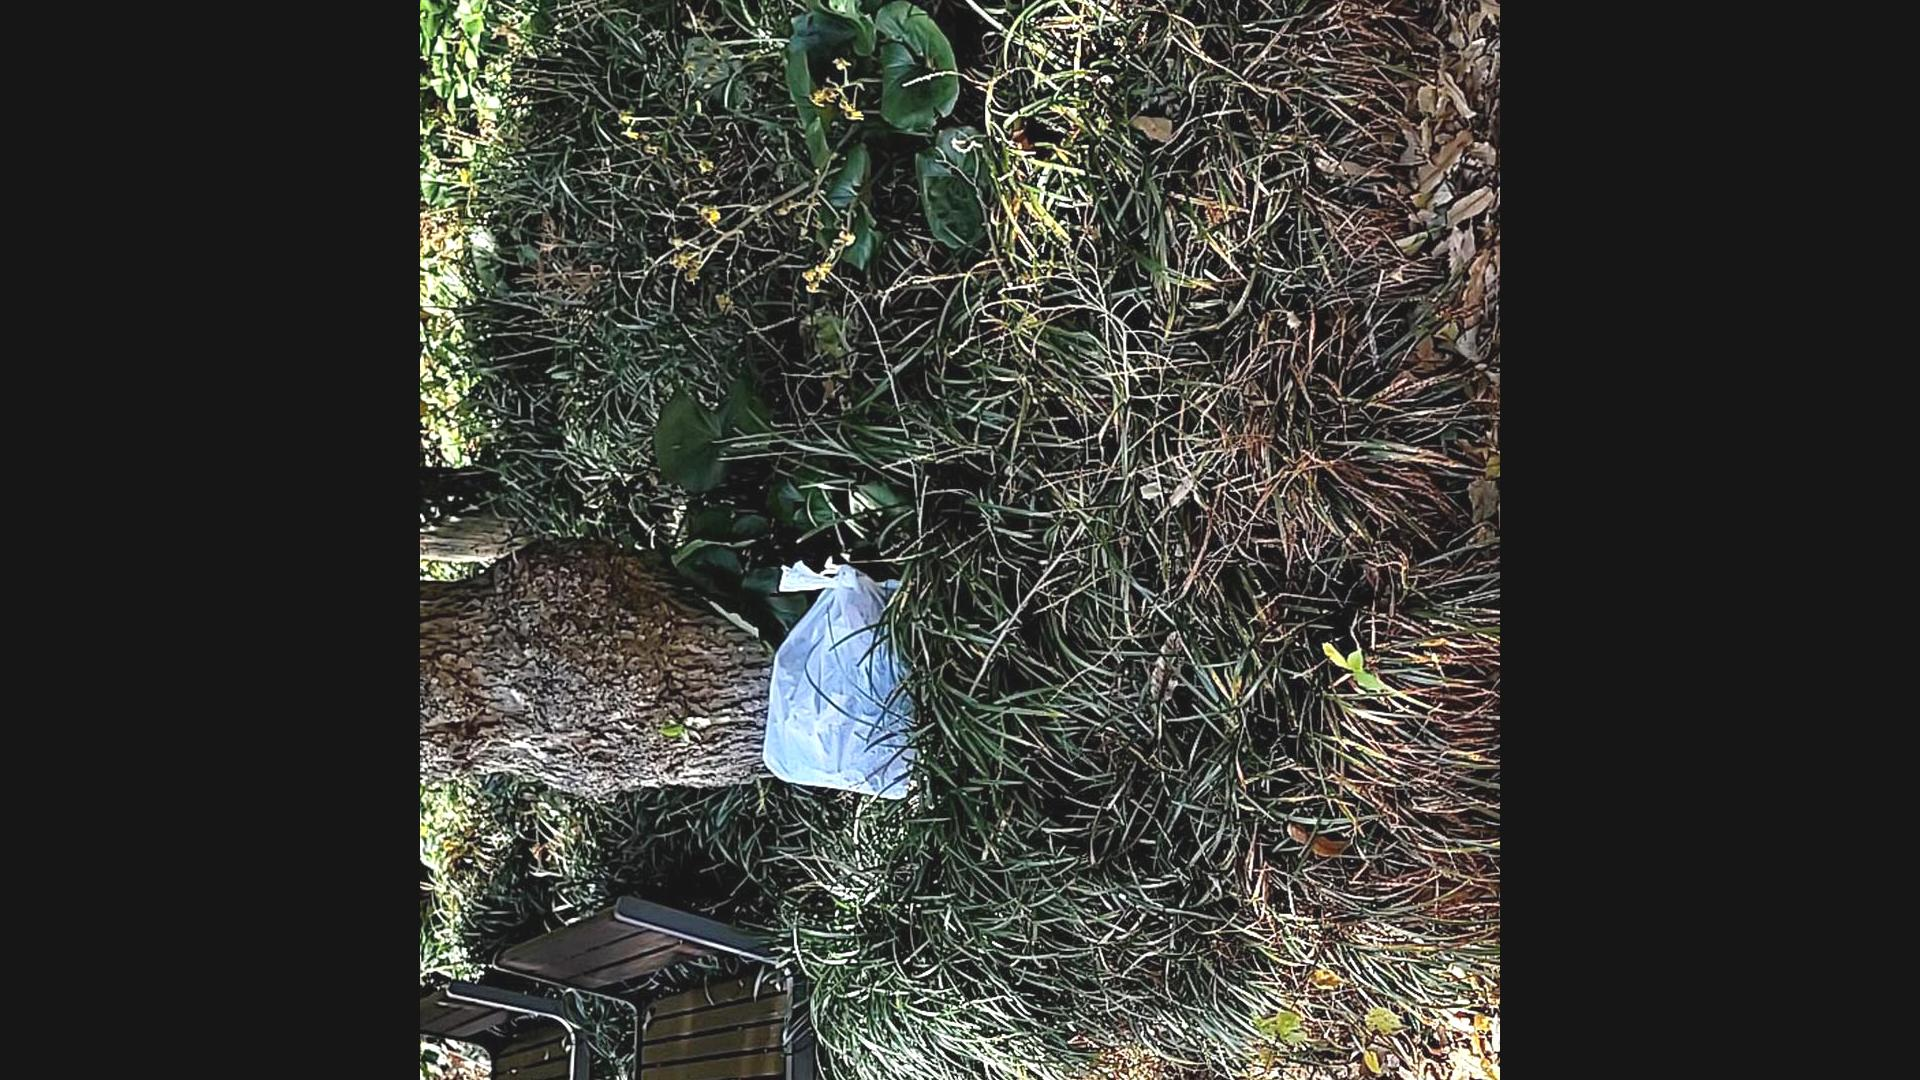white_bag: (750, 549, 938, 819)
